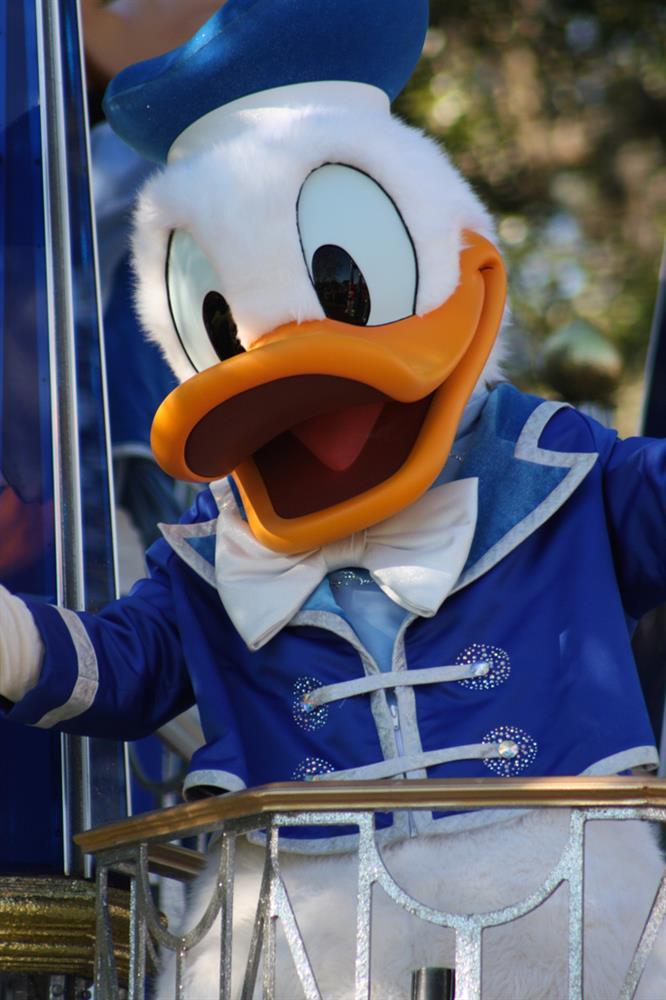Donald_Duck: (104, 45, 593, 974)
